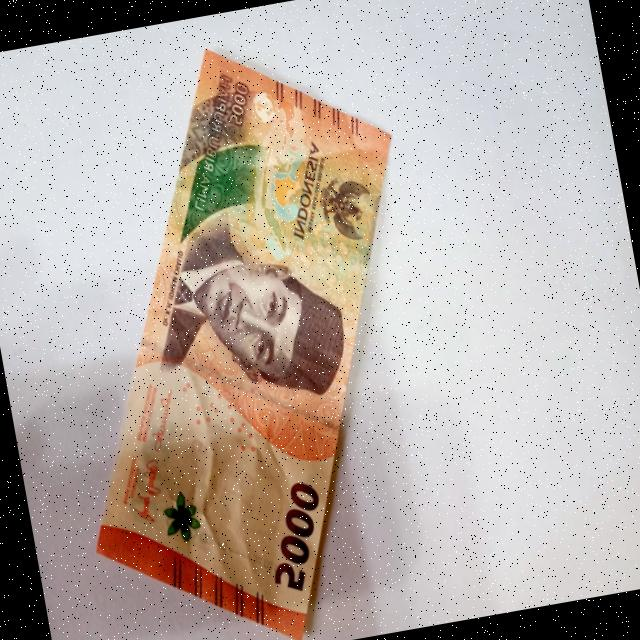5K: (4, 9, 488, 640)
